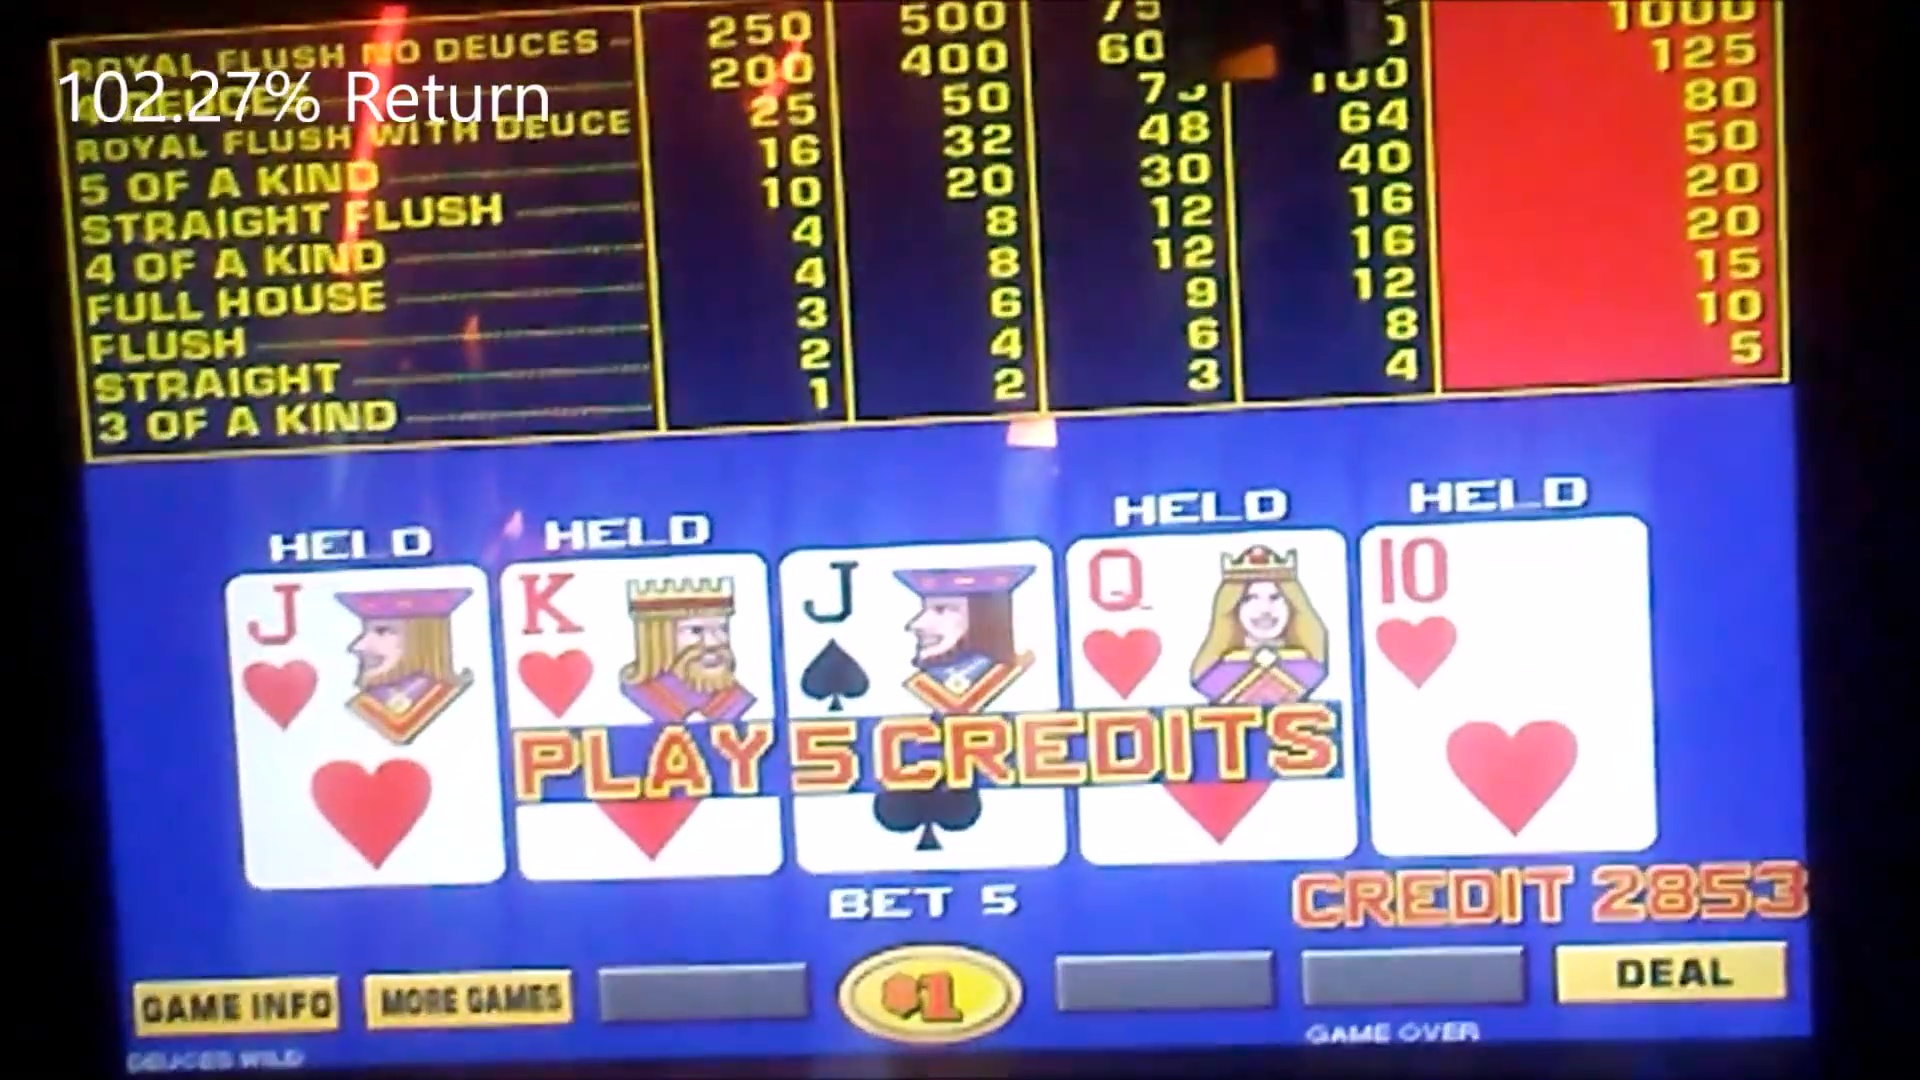JH: (233, 576, 487, 729)
JS: (790, 542, 1047, 709)
KH: (501, 558, 760, 717)
QH: (1077, 533, 1344, 699)
TH: (1366, 518, 1639, 705)
